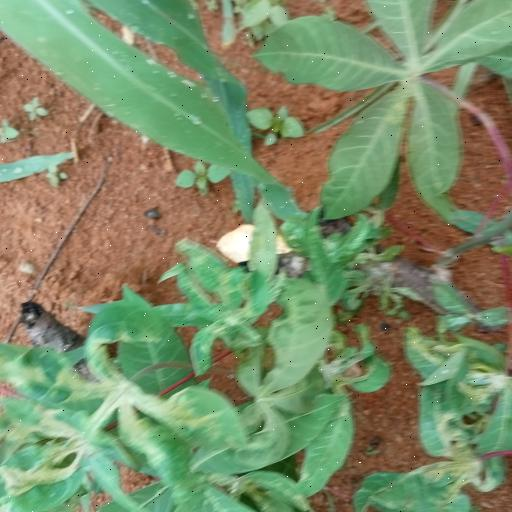Cassava_Mosaic: (269, 0, 512, 198), (1, 338, 263, 508), (396, 360, 512, 504)
